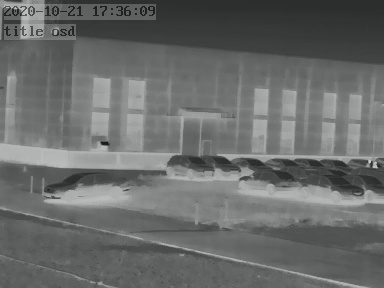vehicle: (43, 169, 130, 205), (238, 169, 302, 191), (307, 173, 359, 200), (164, 153, 212, 179), (347, 173, 382, 199), (206, 153, 242, 177), (232, 154, 271, 172), (346, 155, 380, 170), (261, 155, 295, 169), (317, 156, 349, 170), (295, 156, 324, 169)
